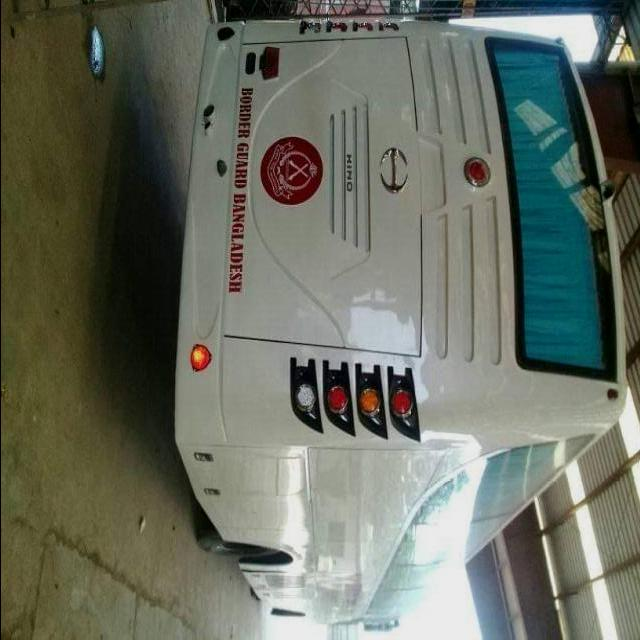bus: (175, 14, 627, 630)
